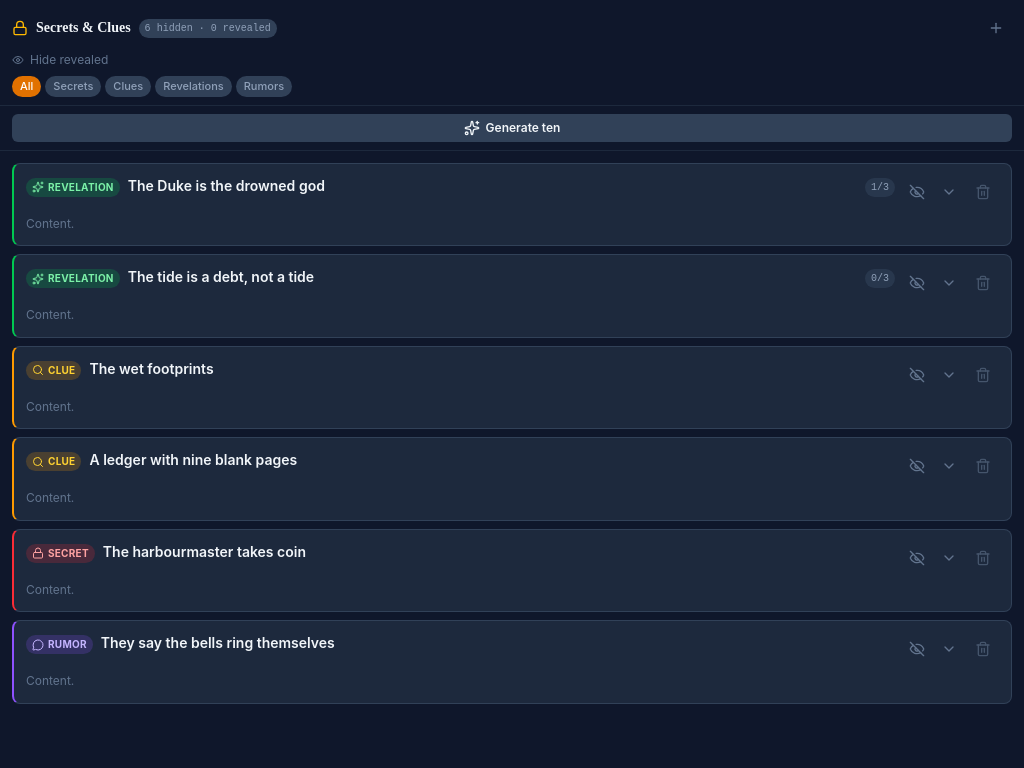
Test: SecretsTracker — the "supports revelation" picker › shows the clue's current edge as the selected value
Click the button "The wet footprints". click: x=152, y=368
box: [90,358,895,378]
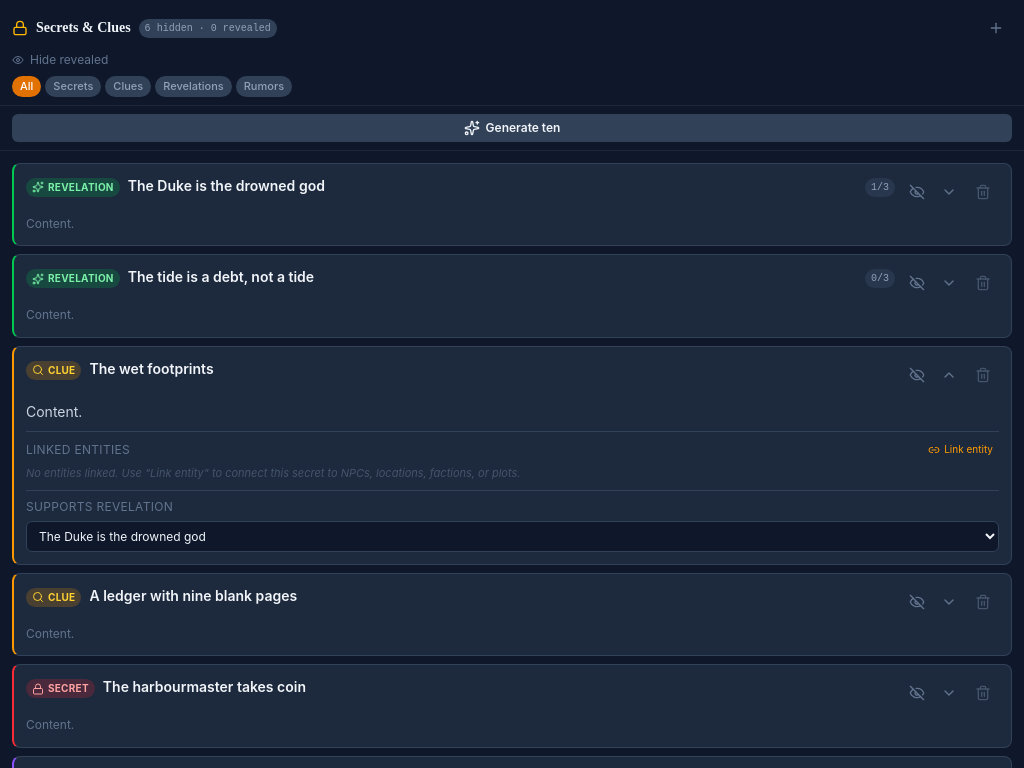
Expected: the dropdown named "supports revelation" shows "The Duke is the drowned god", [26,521,999,552]
